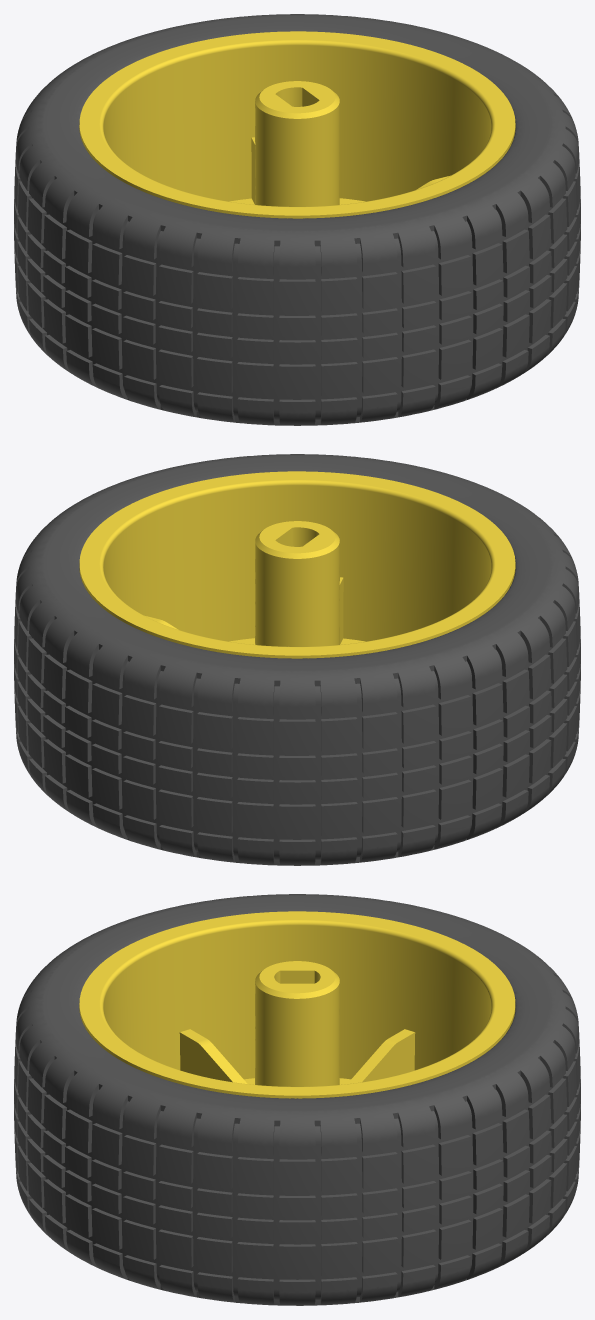
Rendered from tt_motor_wheel_65mm.glb.
The picture shows the model from 3 angles, top to bottom: view 1: azimuth 30°, elevation 25°; view 2: azimuth 150°, elevation 25°; view 3: azimuth 270°, elevation 25°; orthographic projection.
Parts seen in each view (by area): view 1: tyre, rim; view 2: tyre, rim; view 3: tyre, rim.
Part boxes in pixels (x1=…): tyre: x1=14, y1=14, x2=580, y2=425; rim: x1=79, y1=31, x2=515, y2=218; tyre: x1=14, y1=454, x2=580, y2=865; rim: x1=79, y1=471, x2=515, y2=658; tyre: x1=14, y1=894, x2=580, y2=1305; rim: x1=79, y1=911, x2=515, y2=1098.
Size of the model in its own units: 0.0666 by 0.0284 by 0.0666.
